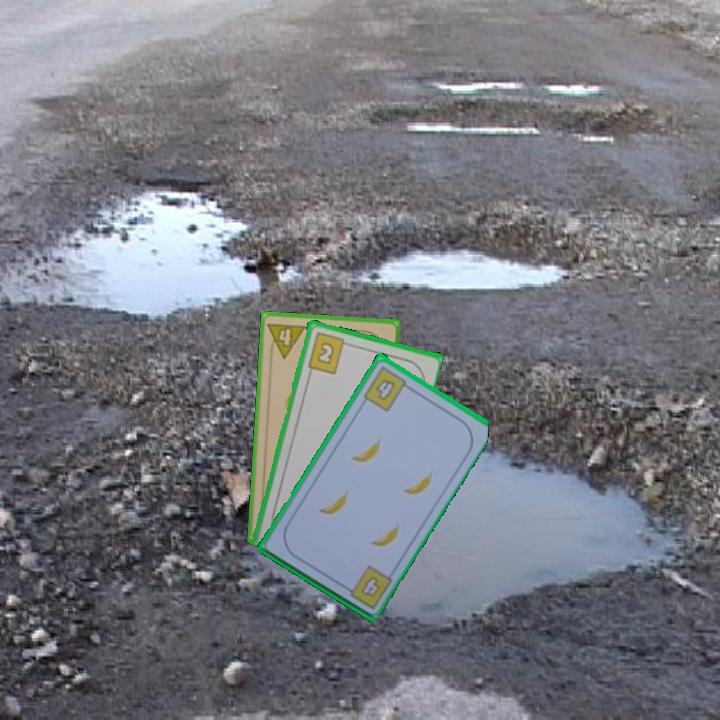2b: (304, 328, 352, 376)
4b: (360, 362, 414, 414), (357, 572, 383, 599)
4p: (264, 319, 309, 361)
